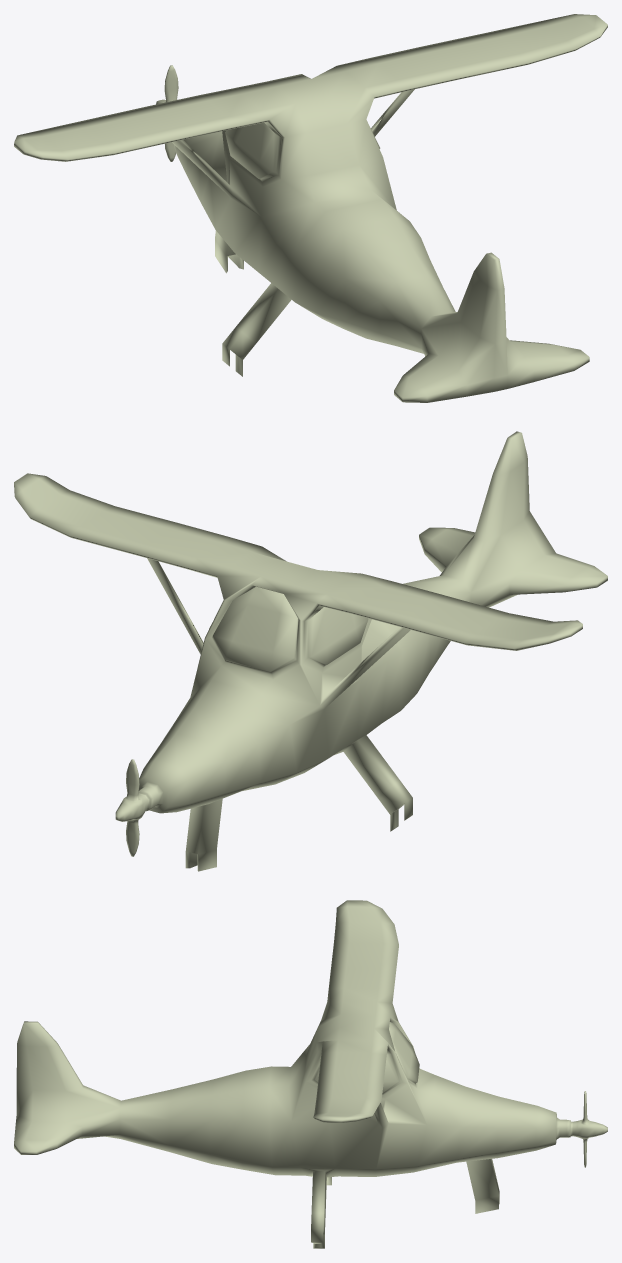
Rendered from wings.obj.
The picture shows the model from 3 angles, top to bottom: view 1: azimuth 30°, elevation 25°; view 2: azimuth 150°, elevation 25°; view 3: azimuth 270°, elevation 25°; orthographic projection. The views are drawn at different scales.
Visible parts, largest first — view 1: Cube1; view 2: Cube1; view 3: Cube1.
Boxes of the visible parts, bbox=[...] form: Cube1: bbox=[14, 14, 607, 402]; Cube1: bbox=[14, 431, 607, 871]; Cube1: bbox=[14, 900, 607, 1248].
Bounding box in the file's own units: 323 × 142 × 368.
